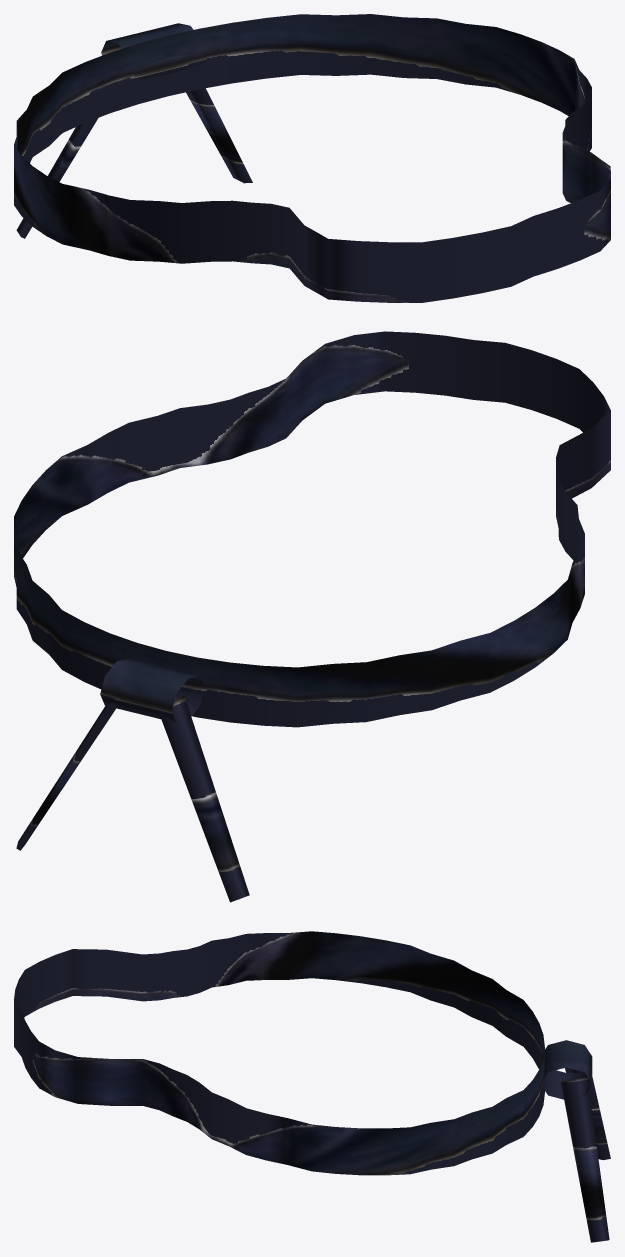
Rendered from hachimaki.glb.
3 views of the same model, one above another, from view 1: azimuth 30°, elevation 25°; view 2: azimuth 150°, elevation 25°; view 3: azimuth 270°, elevation 25° (orthographic). The views are drawn at different scales.
Visible parts, largest first — view 1: Head; view 2: Head; view 3: Head.
Boxes of the visible parts, x1,y1,x2,y2 form: Head: [14, 14, 610, 302]; Head: [14, 331, 610, 902]; Head: [14, 931, 610, 1242].
Bounding box in the file's own units: 0.2124 × 0.1027 × 0.2766.
1 material, 1 textured.
